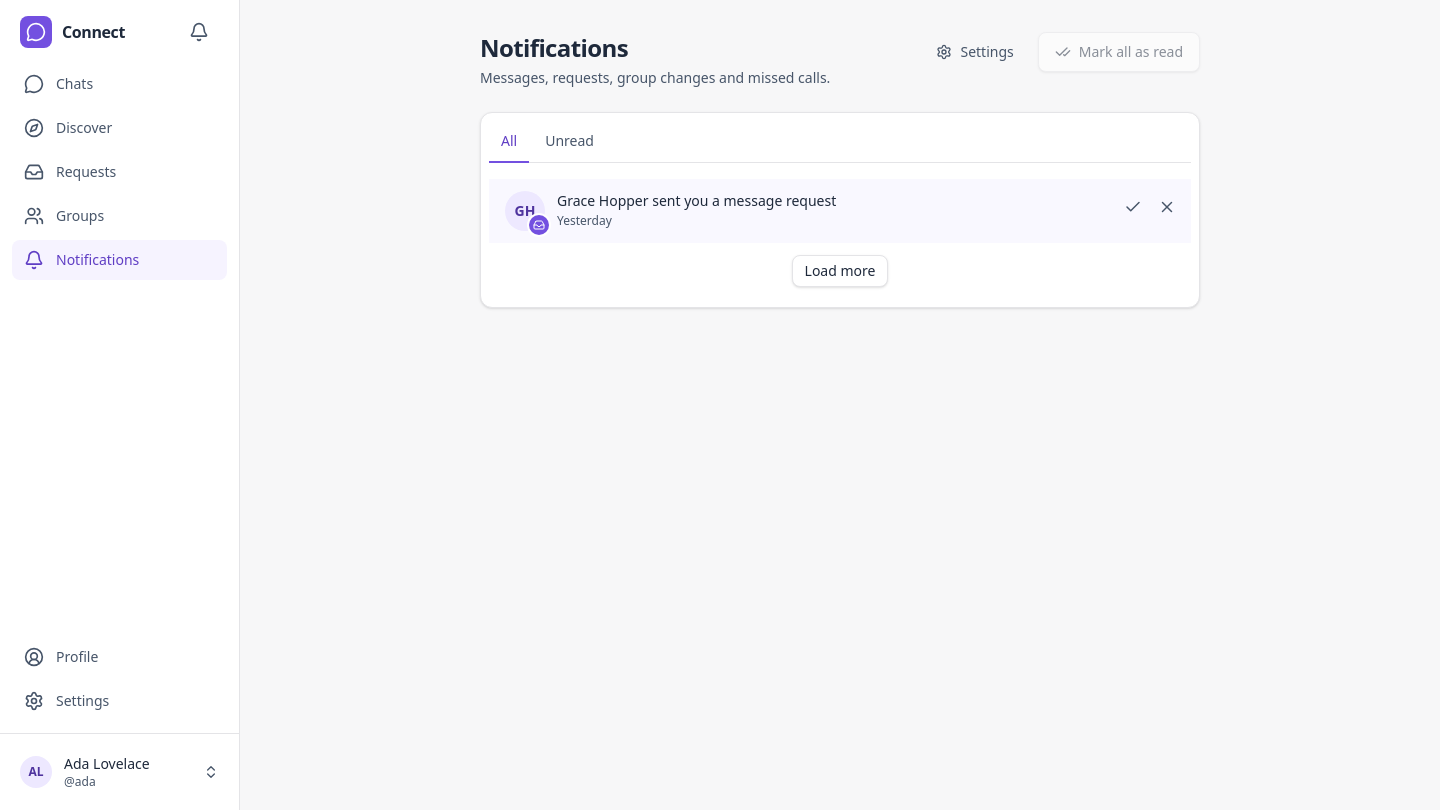
Test: NotificationsPage › loads more pages and dismisses
Step 1. Click the button "Load more" → (840,271), box [792, 255, 888, 287]
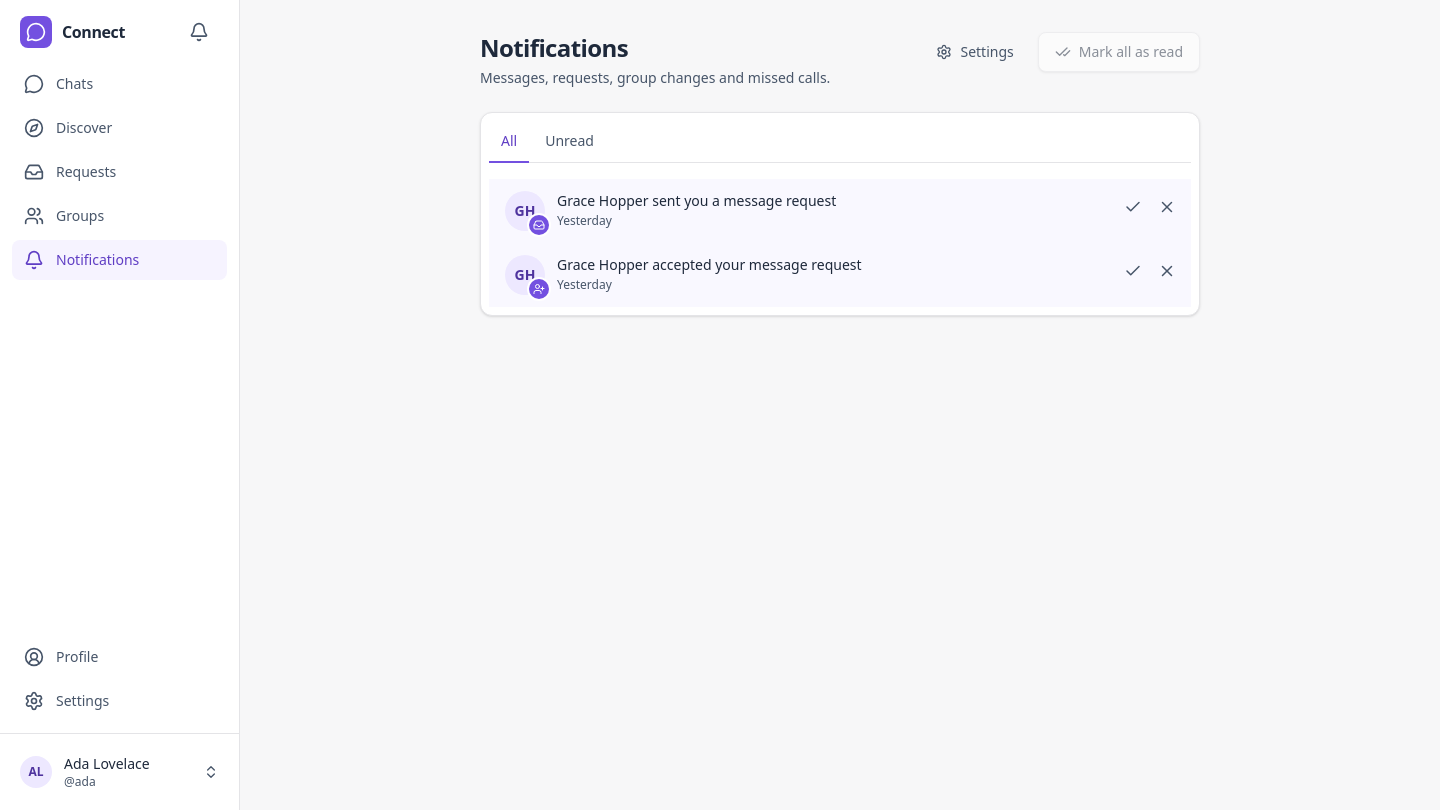
Now the text "Grace Hopper accepted your message request" is shown, box [556, 254, 862, 274]
Step 2. Click the button named "Dismiss notification" in the row of "Grace Hopper sent you a message request" → (1167,207), box [1151, 191, 1183, 223]
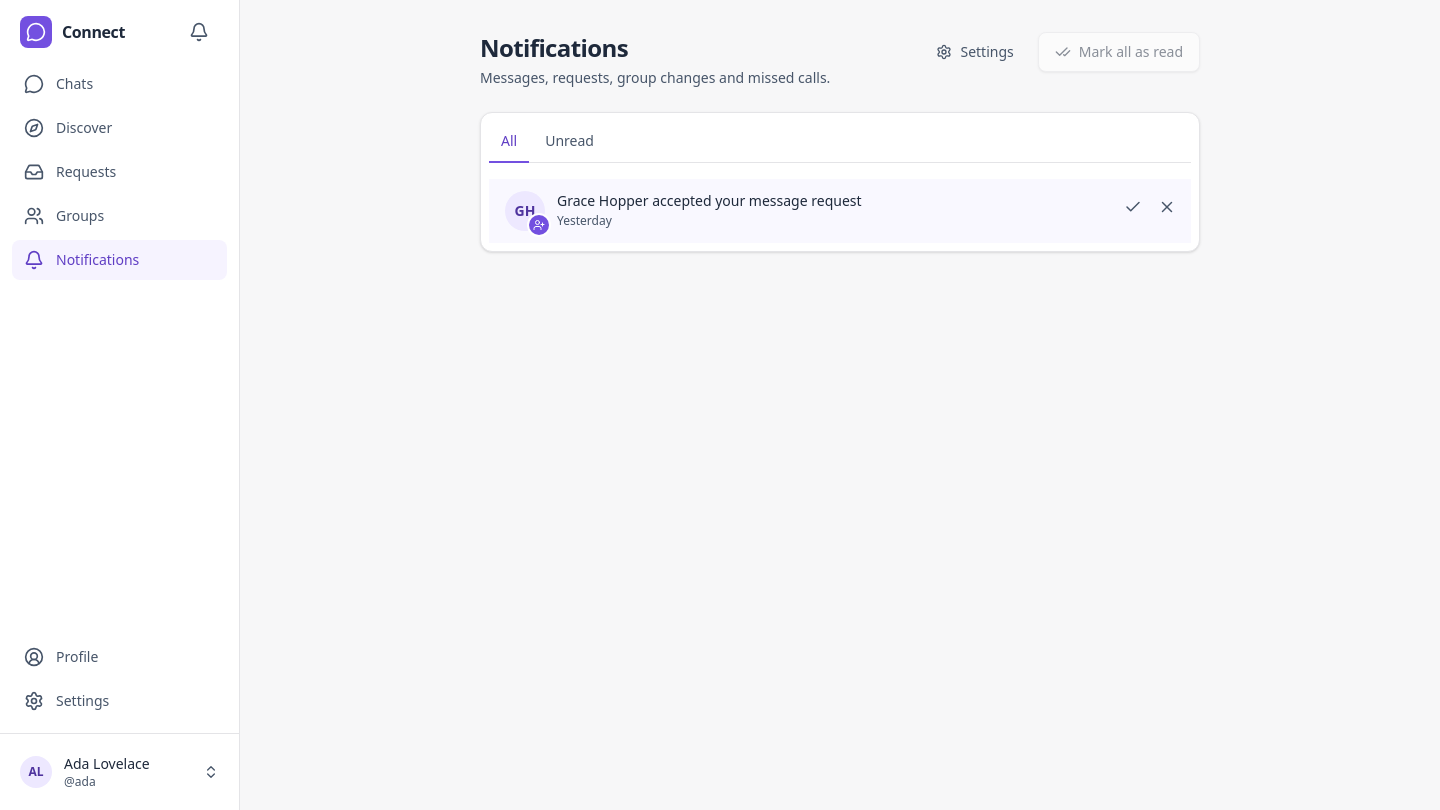
Now the link "Grace Hopper sent you a message request" is gone
